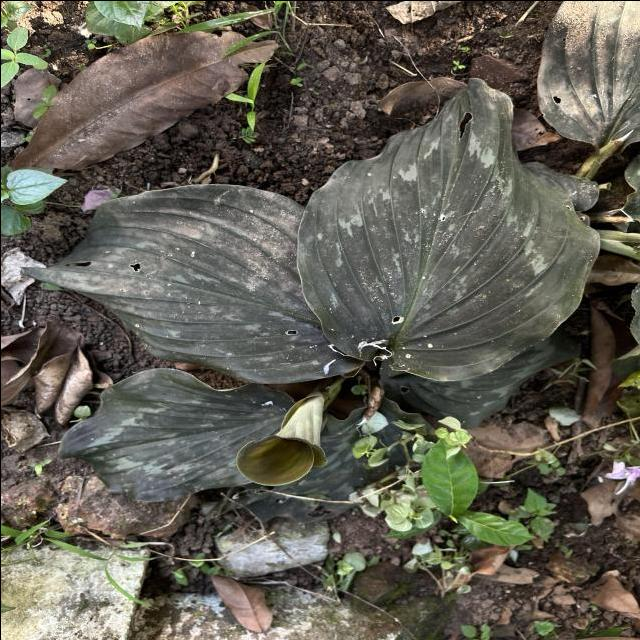Kaempferia galanga linn: (293, 74, 602, 383), (18, 182, 366, 386)
